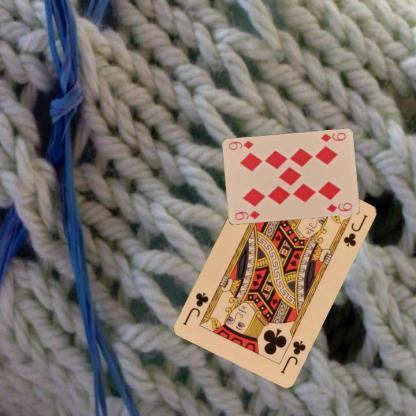9d: (232, 208, 261, 221), (318, 130, 347, 143)
Jc: (277, 337, 307, 375)
